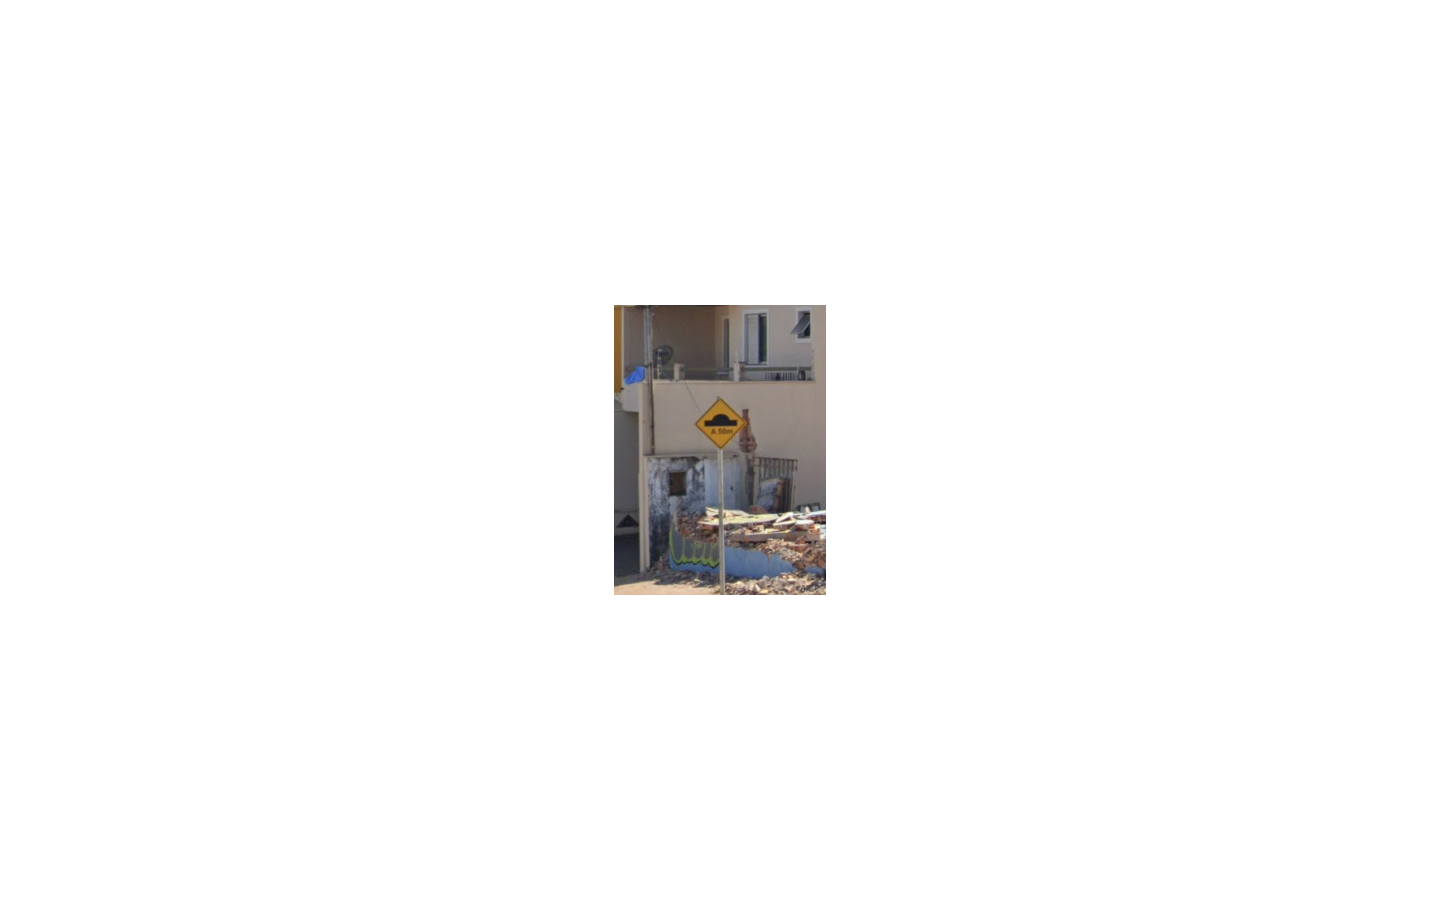l50m: (695, 398, 746, 449)
